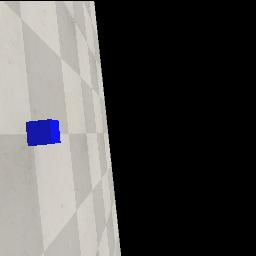box: (26, 119, 61, 146)
